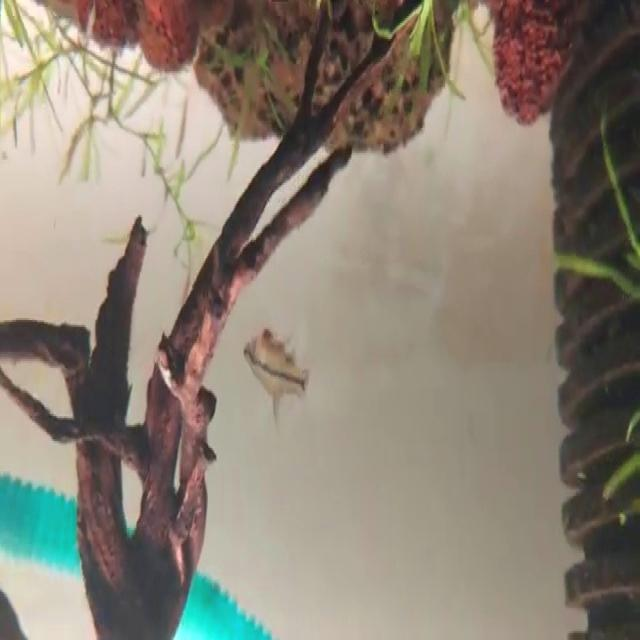Cakil Baligi: (240, 325, 318, 443)
